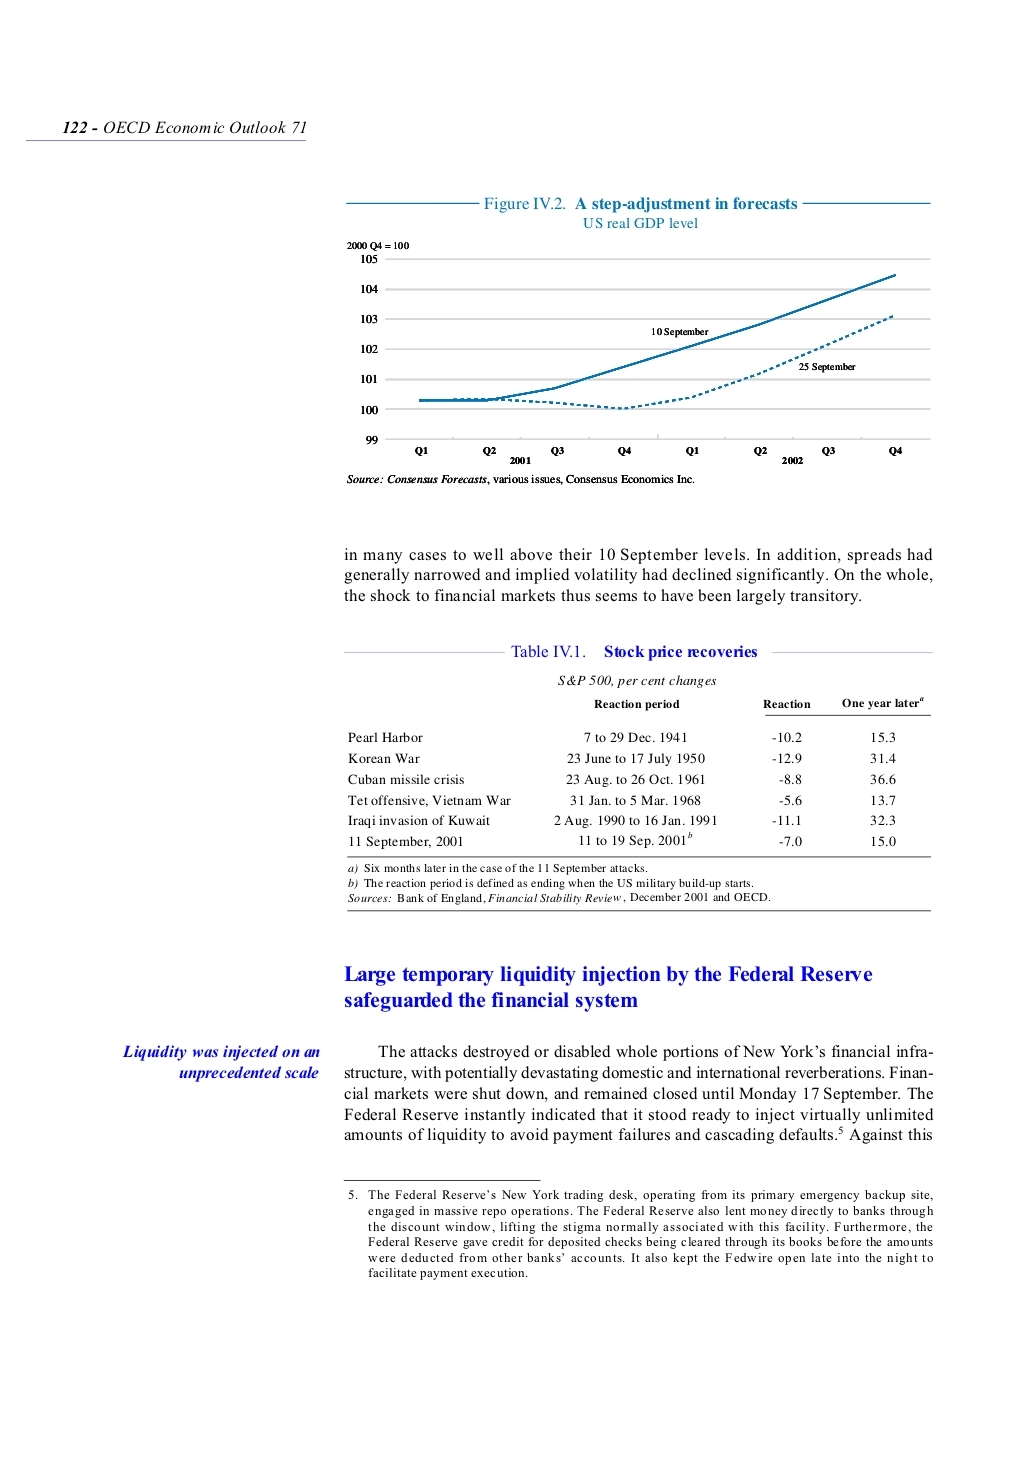Table: (347, 697, 929, 857)
figure: (347, 242, 929, 464)
